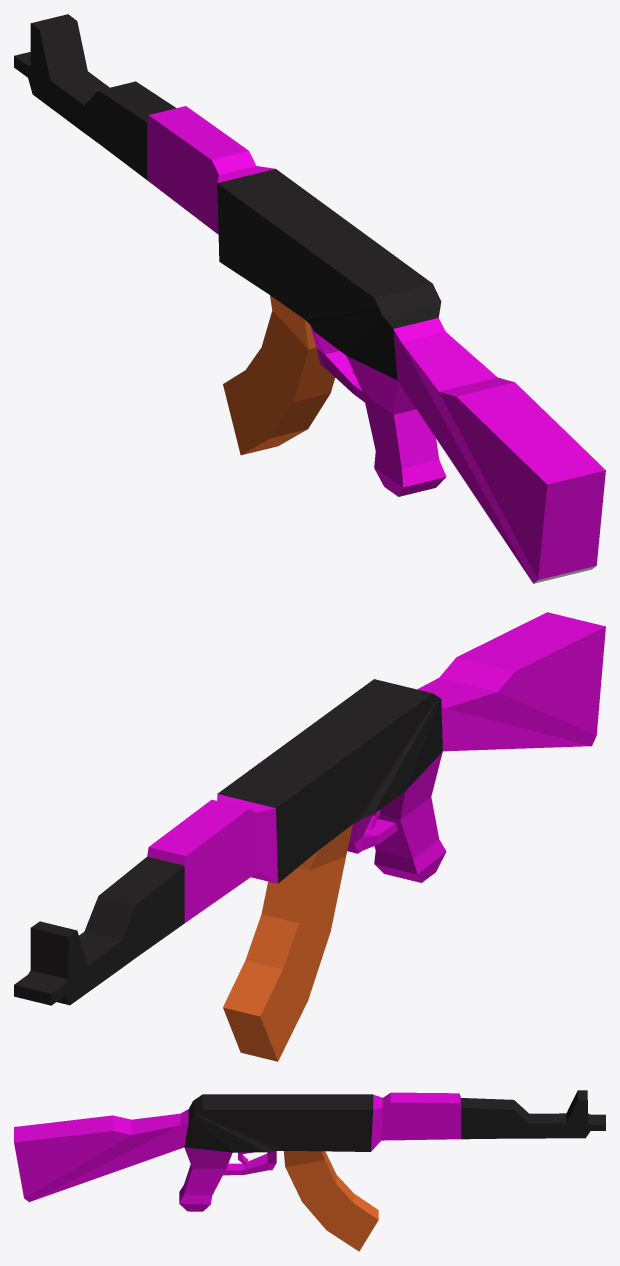
Rendered from gun.fbx.
3 renders of one model, top to bottom at view 1: azimuth 30°, elevation 25°; view 2: azimuth 150°, elevation 25°; view 3: azimuth 270°, elevation 25°, orthographic. The views are drawn at different scales.
Parts seen in each view (by area): view 1: Cube; view 2: Cube; view 3: Cube.
Part boxes in pixels (box(x1,y1,x2,y2)): Cube: box(14, 14, 605, 583); Cube: box(14, 612, 605, 1061); Cube: box(14, 1090, 605, 1251).
Size of the model in its own units: 27.72 by 126 by 445.
